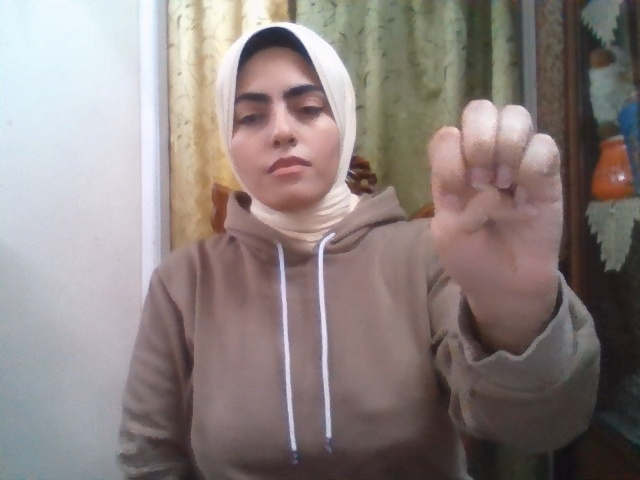E: (429, 100, 564, 304)
